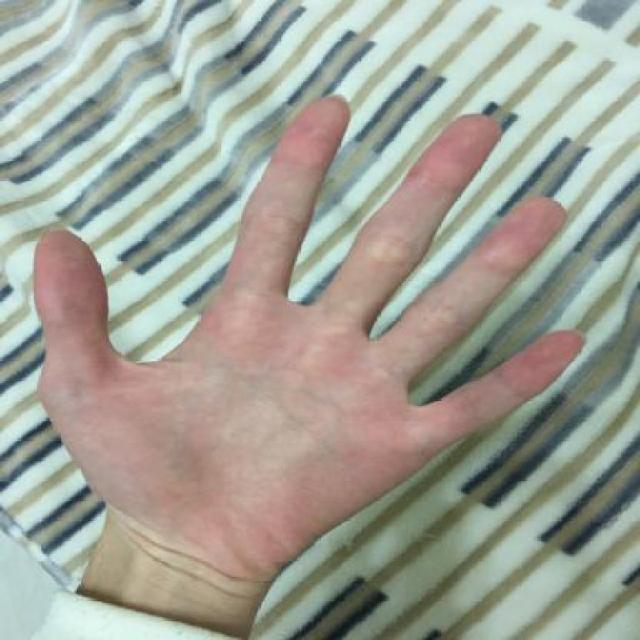bare_hand: (19, 80, 604, 588)
